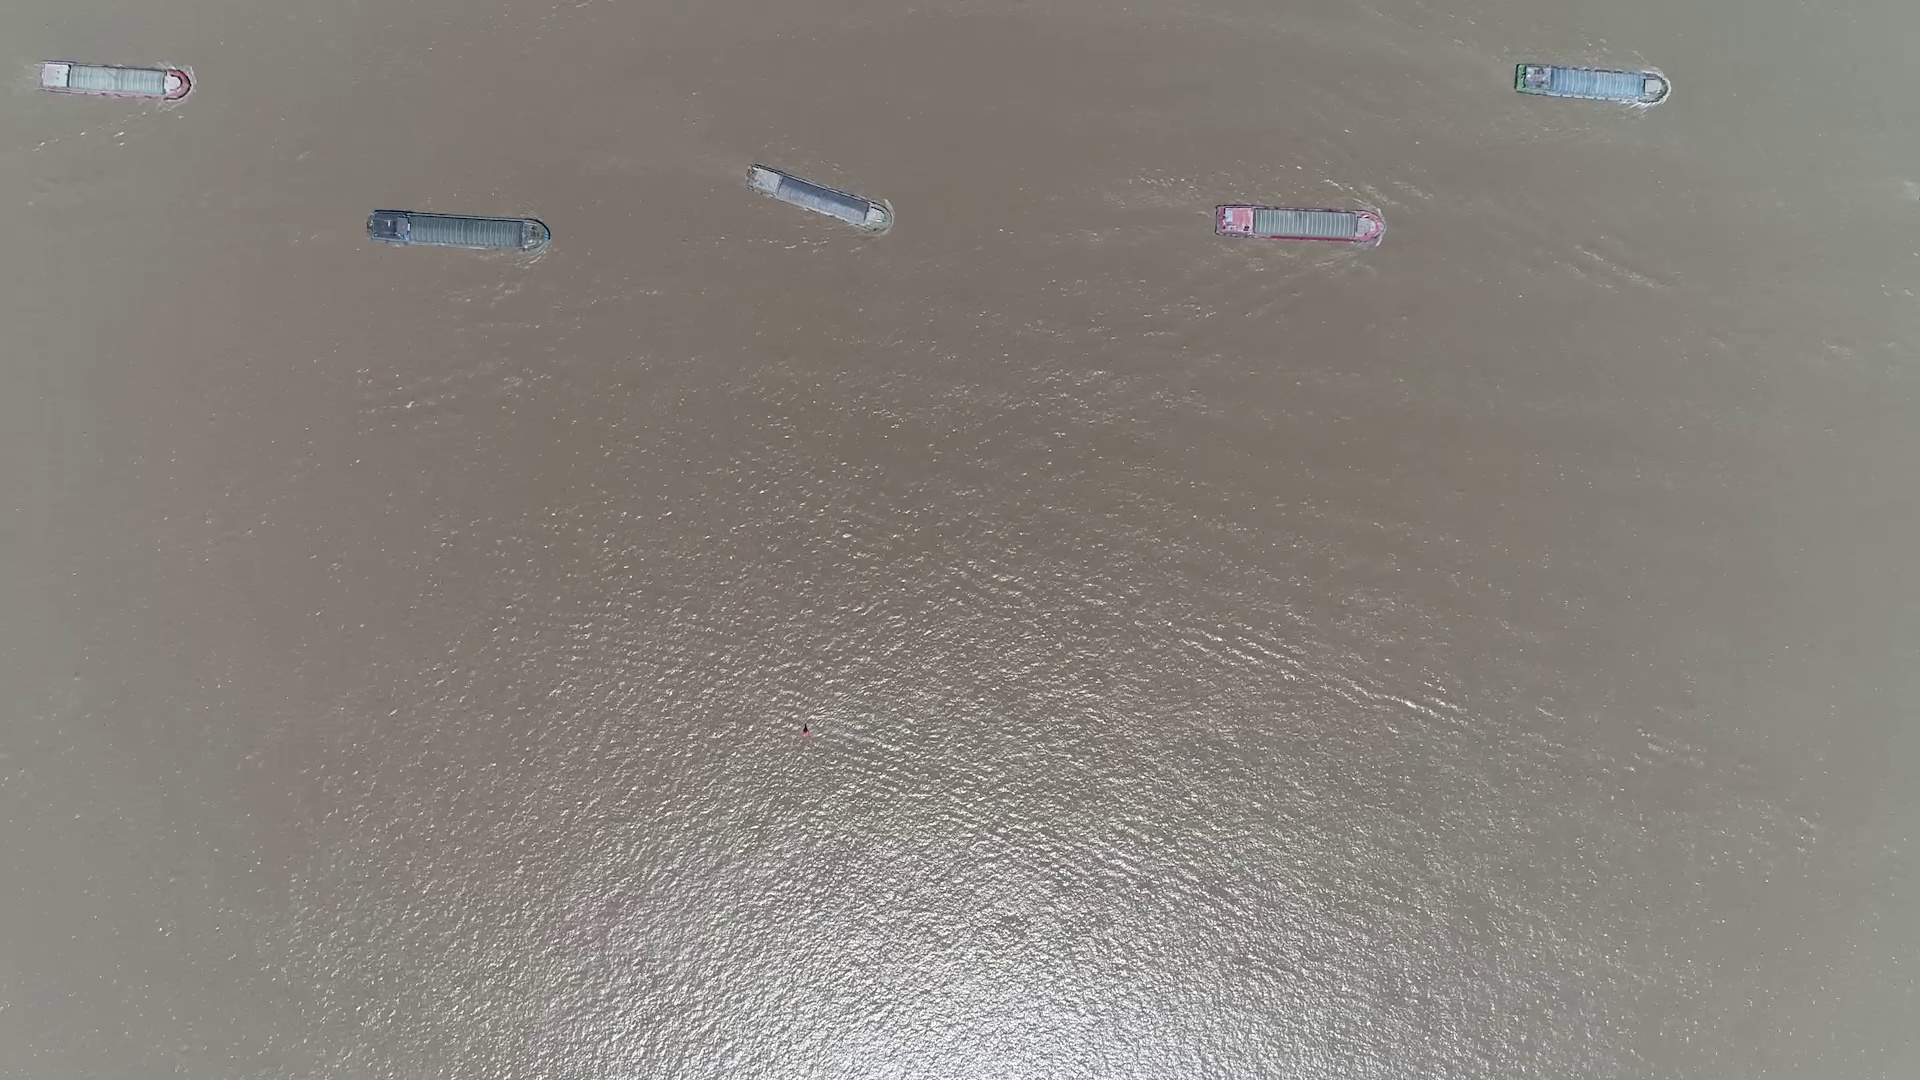ship: (745, 165, 891, 229), (367, 212, 549, 253), (1212, 204, 1385, 243), (1514, 65, 1668, 103), (37, 63, 190, 98)
